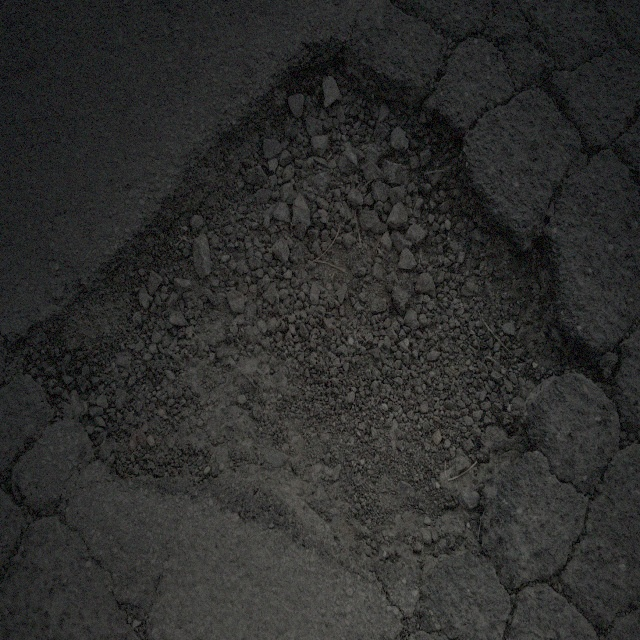pothole: (41, 32, 577, 562)
